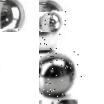ironball: (39, 49, 82, 100), (0, 0, 26, 31), (39, 11, 67, 32), (39, 32, 59, 50), (52, 93, 77, 103)
